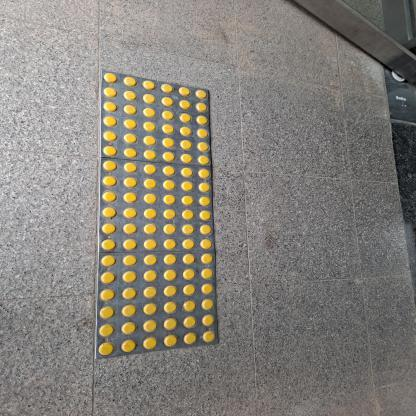podotacti: (91, 63, 227, 364)
